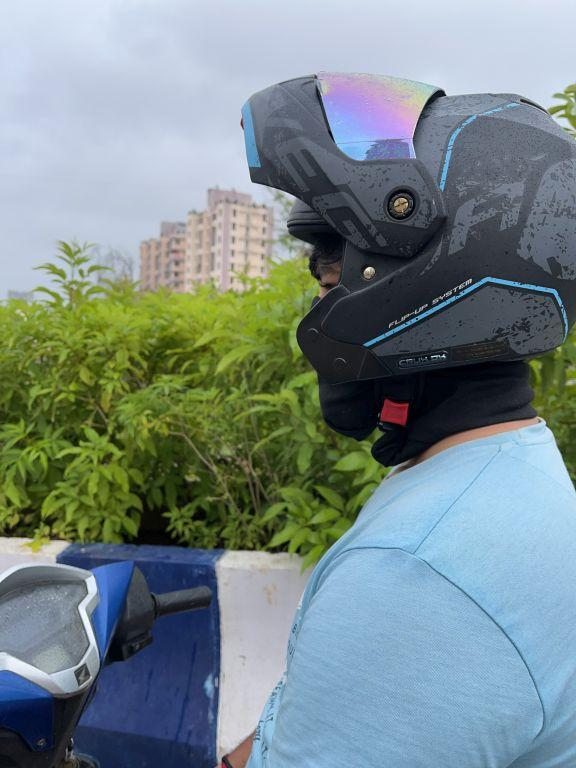helmet: (214, 64, 576, 426)
